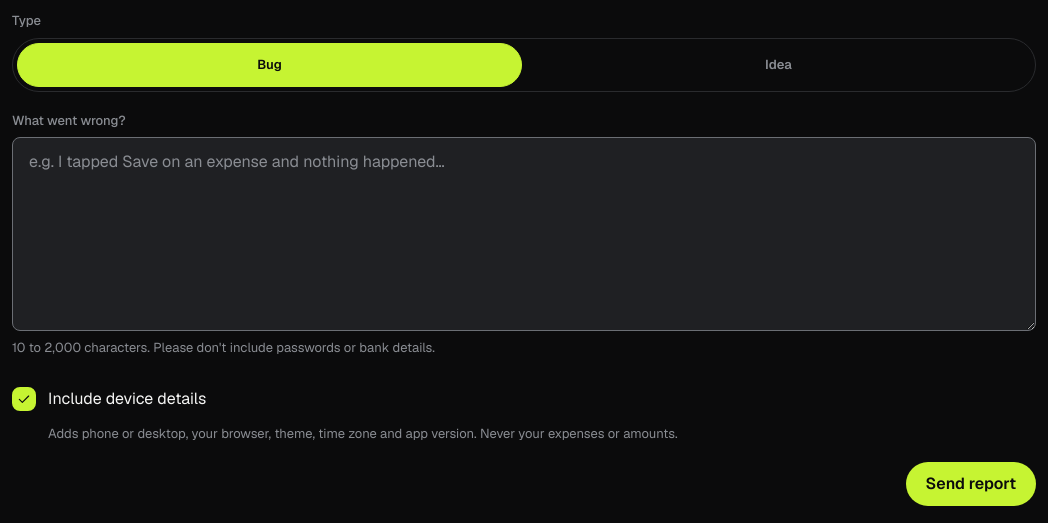
Test case: FeedbackForm › switching to Idea hides the device details
Click the radio button labelled "Idea": (778, 64) x1=526 y1=42 x2=1031 y2=86
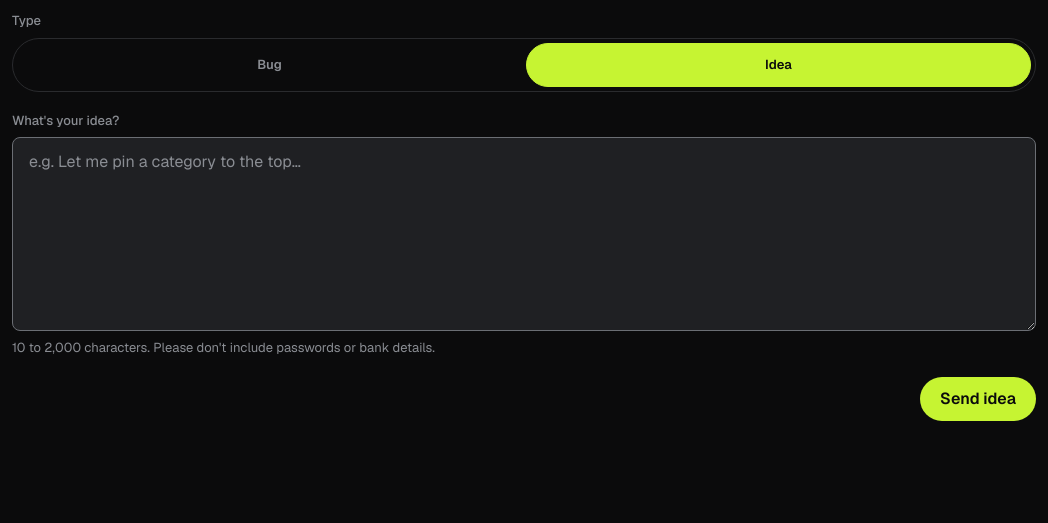
Now the text "Include device details" is gone
